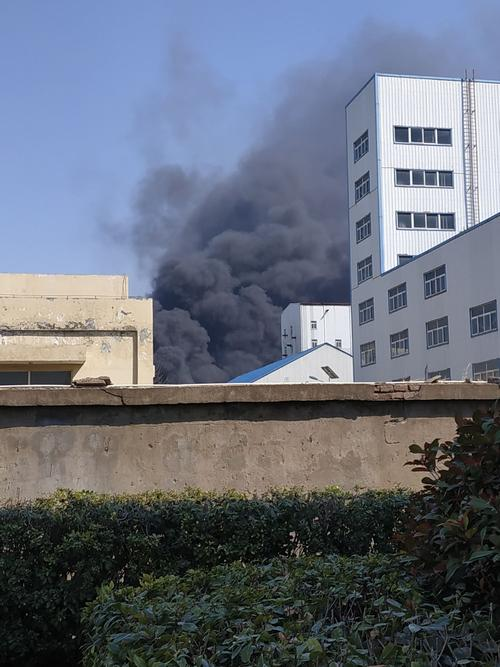smoke: (154, 107, 355, 383)
